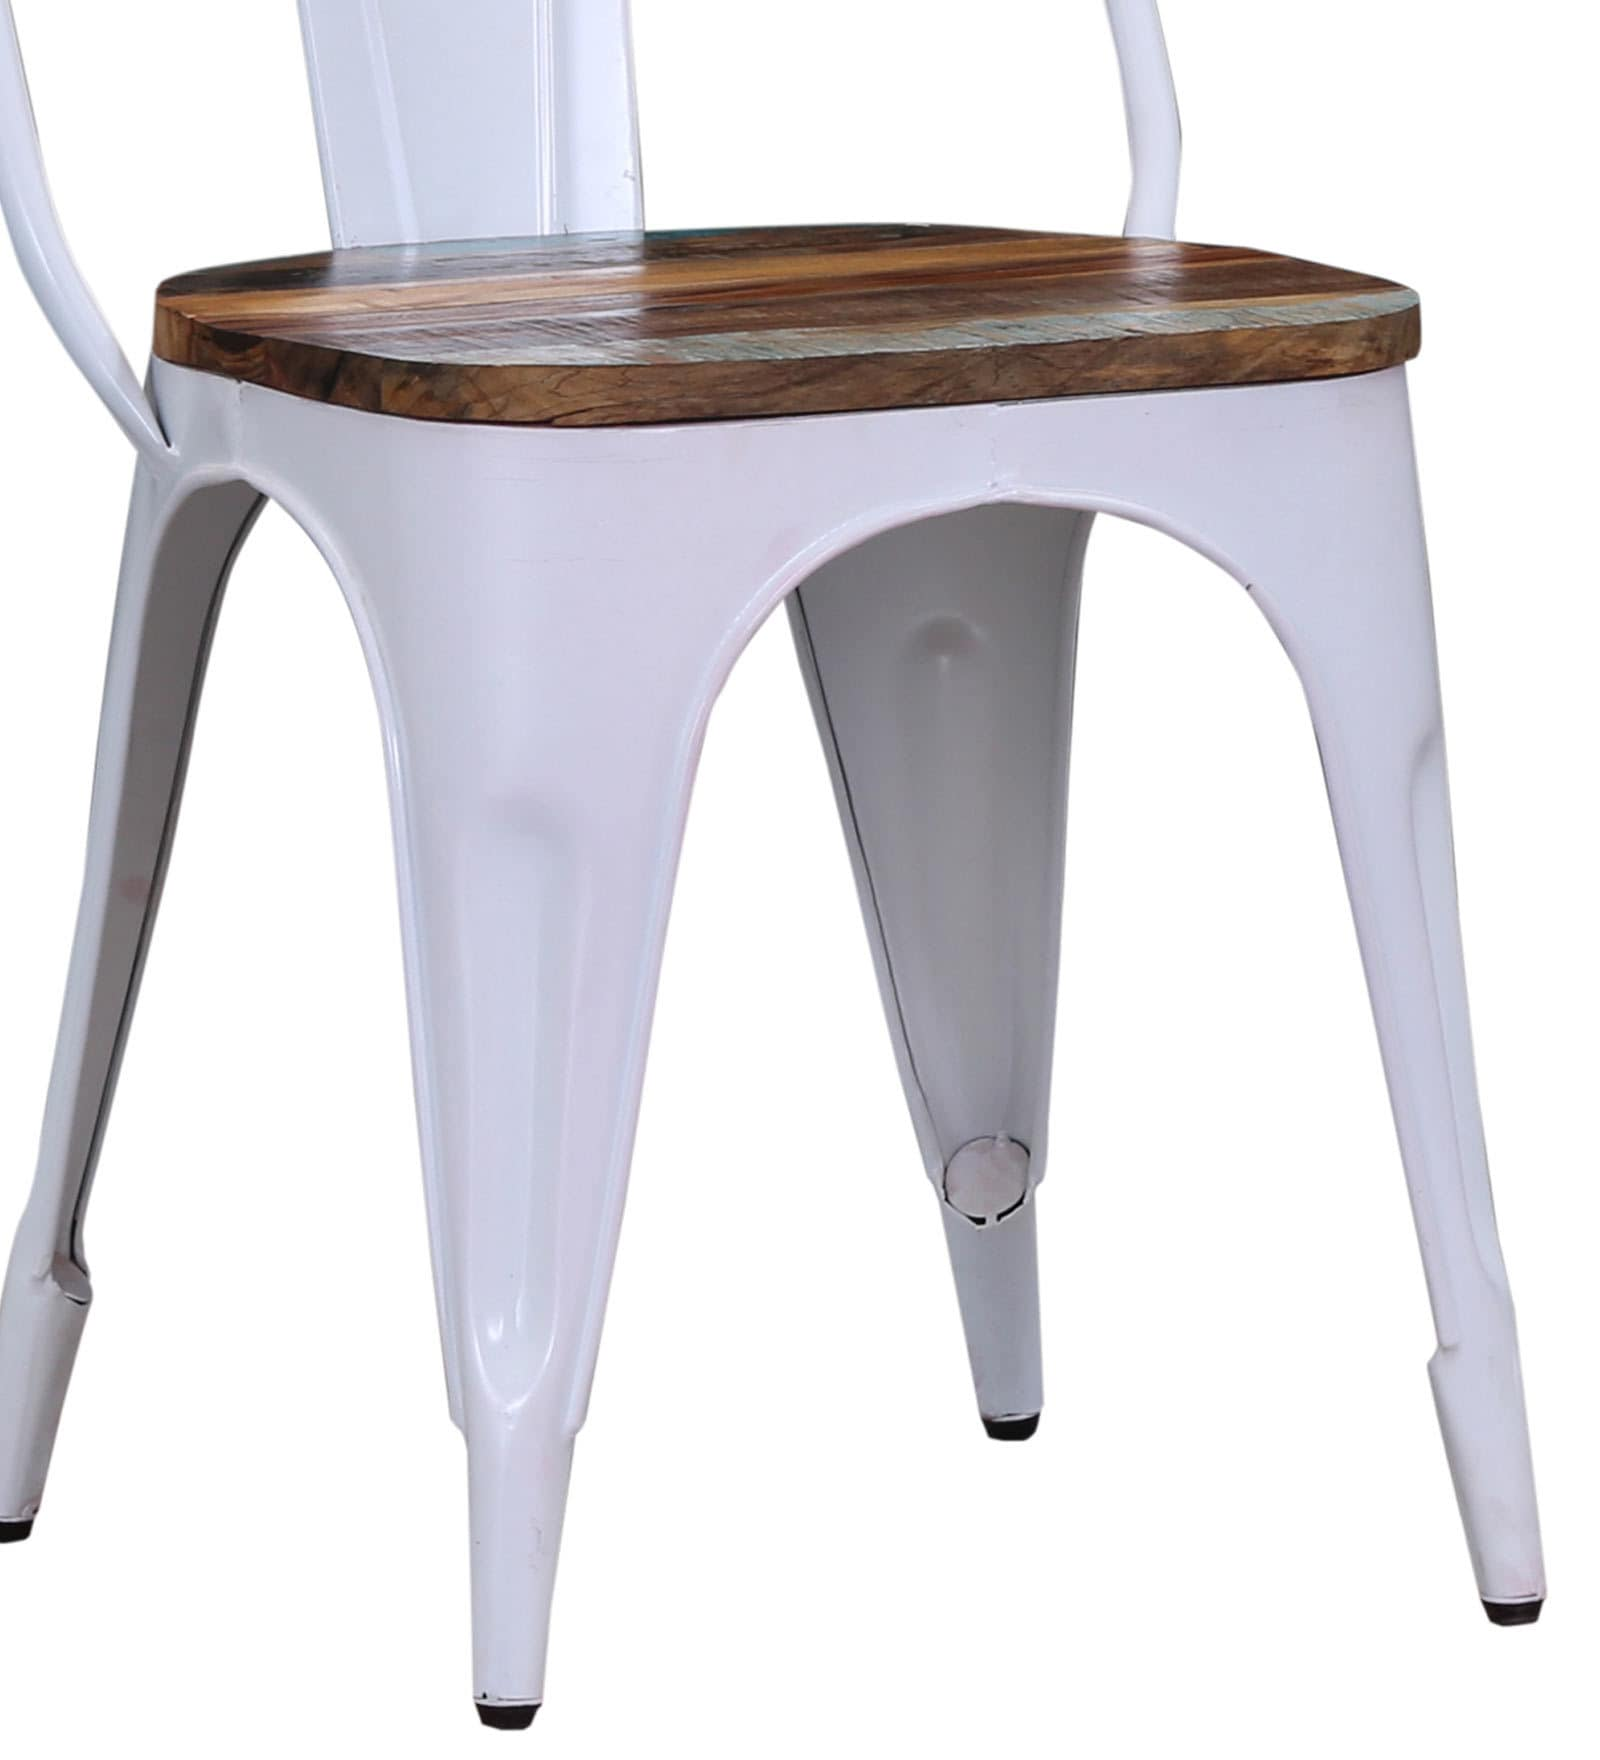Ekati Metal Chair in White Color with Wooden Seat by Bohemiana: (9, 5, 1582, 1760)
